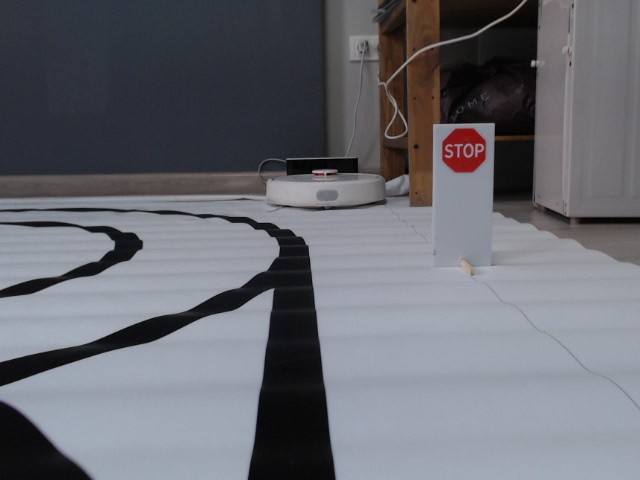Stop: (439, 129, 489, 175)
